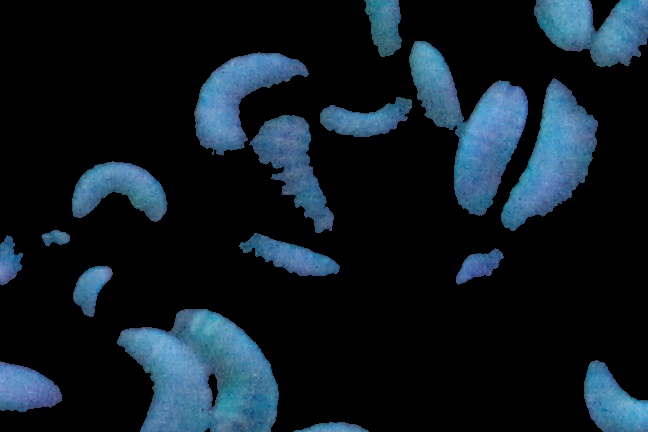larvae: (501, 70, 609, 232), (171, 302, 282, 432), (195, 59, 318, 158), (453, 80, 529, 226), (248, 113, 337, 234), (115, 325, 211, 432), (205, 225, 341, 290), (72, 160, 168, 230), (305, 92, 415, 146), (579, 351, 648, 432), (409, 41, 460, 136), (1, 356, 71, 415), (591, 1, 648, 73), (530, 1, 600, 50)
